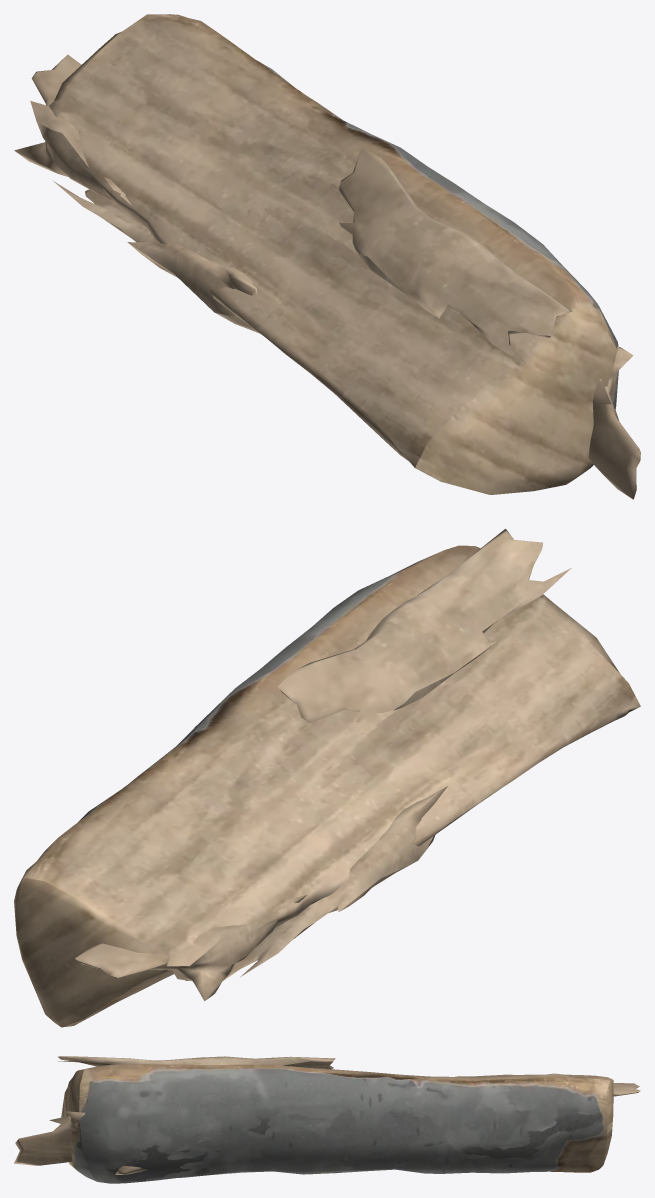
3 renders of one model, top to bottom at view 1: azimuth 30°, elevation 25°; view 2: azimuth 150°, elevation 25°; view 3: azimuth 270°, elevation 25°, orthographic. The views are drawn at different scales.
Parts seen in each view (by area): view 1: SM_Chopped_Ash_log_01_LOD0; view 2: SM_Chopped_Ash_log_01_LOD0; view 3: SM_Chopped_Ash_log_01_LOD0.
Boxes of the visible parts, x1,y1,x2,y2 form: SM_Chopped_Ash_log_01_LOD0: (14,14,640,499); SM_Chopped_Ash_log_01_LOD0: (14,528,640,1027); SM_Chopped_Ash_log_01_LOD0: (14,1056,640,1183).
Size of the model in its own units: 0.233 by 0.1848 by 0.8848.
1 material, 1 textured.
